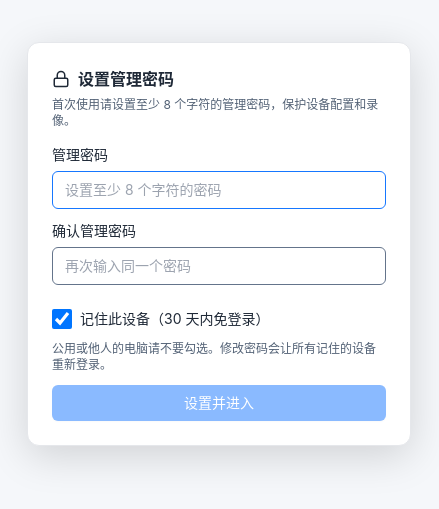
does not submit mismatched bootstrap passwords
Type "password-one" into the password field labelled "管理密码".
click(219, 190); type("password-one")  # box [52,171,386,209]
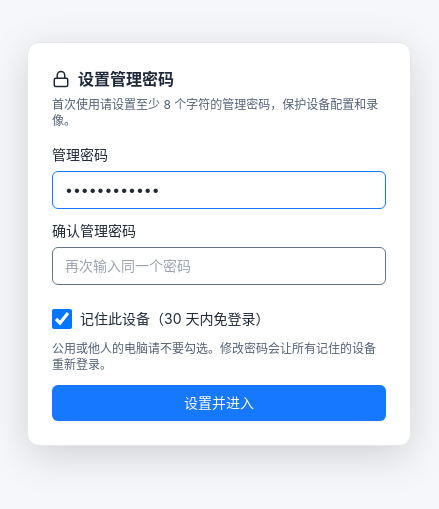
Type "password-two" into the password field labelled "确认管理密码".
click(219, 266); type("password-two")  # box [52,247,386,285]
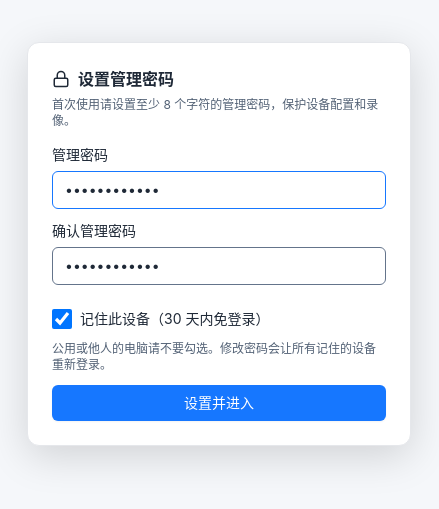
Click the button "设置并进入".
click(219, 403)  # box [52,385,386,421]
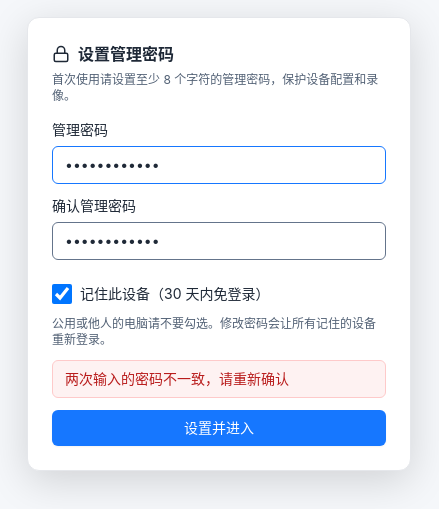
Expected: the button "设置并进入" is enabled, [52,410,386,446]
Expected: the message shows "两次输入的密码不一致", [65,370,289,387]
